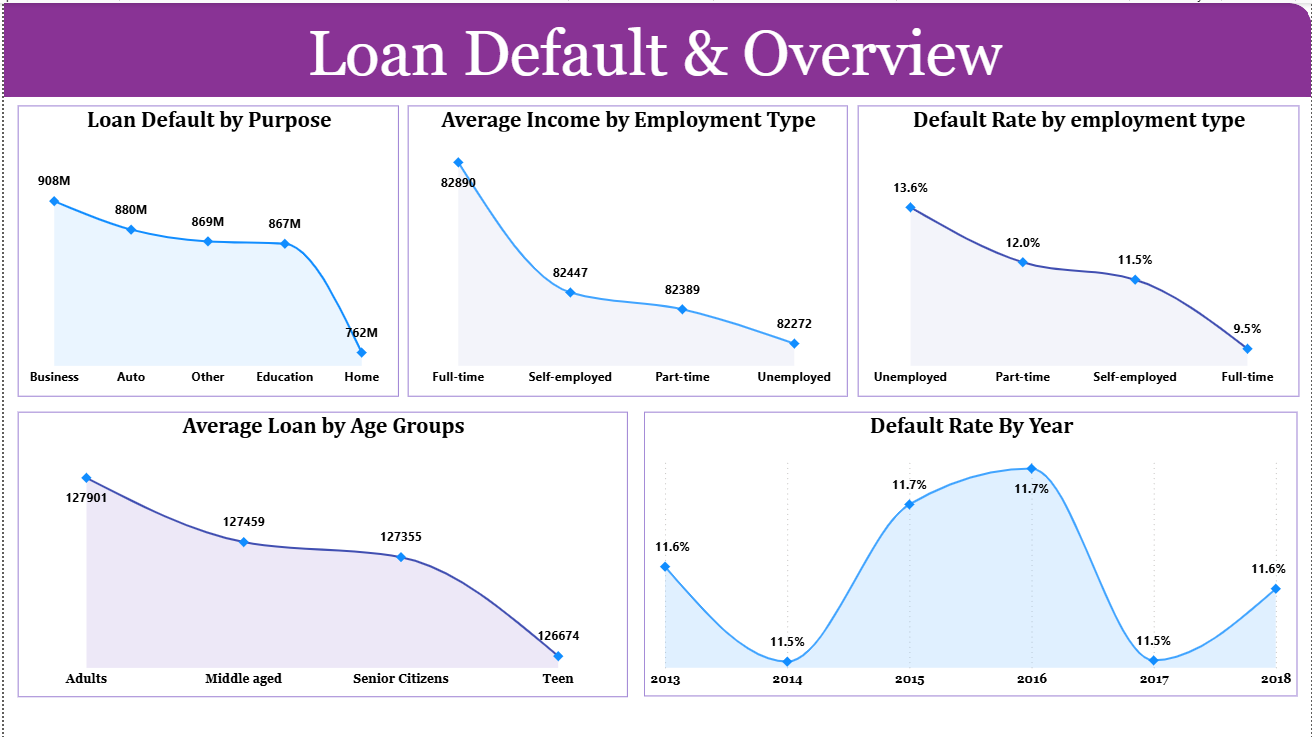

This screenshot's page, from the dashboard's own definition file:
{"tool":"powerbi","page":{"name":"Loan Default and Overview","canvas":[1280,720],"ordinal":0},"visuals":[{"type":"shape","box":[0,0,1280.3,91.9],"z":0},{"type":"lineChart","title":"Loan Default by Purpose","fields":{"Category":["Loan_default.LoanPurpose"],"Y":["Measures Table.loan default by purpose"]},"box":[13.5,100.3,373,284.9],"z":1},{"type":"lineChart","title":"Average Income by Employment Type","fields":{"Category":["Loan_default.EmploymentType"],"Y":["Measures Table.Average Income by employment type"]},"box":[395,100.3,430.4,284.9],"z":2},{"type":"lineChart","title":"Default Rate by employment type","fields":{"Category":["Loan_default.EmploymentType"],"Y":["Measures Table.Default rate by employment type"]},"box":[835.2,100.3,431.7,284.9],"z":3},{"type":"lineChart","title":"Average Loan by Age Groups","fields":{"Category":["Loan_default.Age groups"],"Y":["Measures Table.Average Loan by age groups"]},"box":[13.5,399.9,596.7,278.8],"z":4},{"type":"lineChart","title":"Default Rate By Year","fields":{"Category":["Loan_default.Year"],"Y":["Measures Table.Default Rate by Year"]},"box":[626.6,399.4,639.5,278.7],"z":5}]}

Visuals, with their boxes in screenshot pixels (x1, y1, x2, y2), scaled from the page's 1280x720 canvas onto the 1312x737 screenshot:
shape: [left=0, top=0, right=1311, bottom=94]
"Loan Default by Purpose" lineChart: [left=14, top=103, right=396, bottom=394]
"Average Income by Employment Type" lineChart: [left=405, top=103, right=846, bottom=394]
"Default Rate by employment type" lineChart: [left=856, top=103, right=1299, bottom=394]
"Average Loan by Age Groups" lineChart: [left=14, top=409, right=625, bottom=695]
"Default Rate By Year" lineChart: [left=642, top=409, right=1298, bottom=694]
